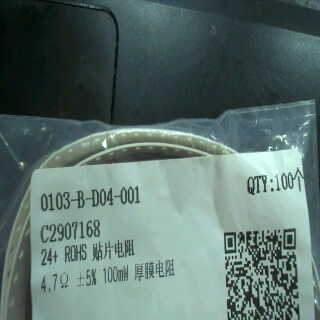4.7R: (36, 270, 74, 297)
